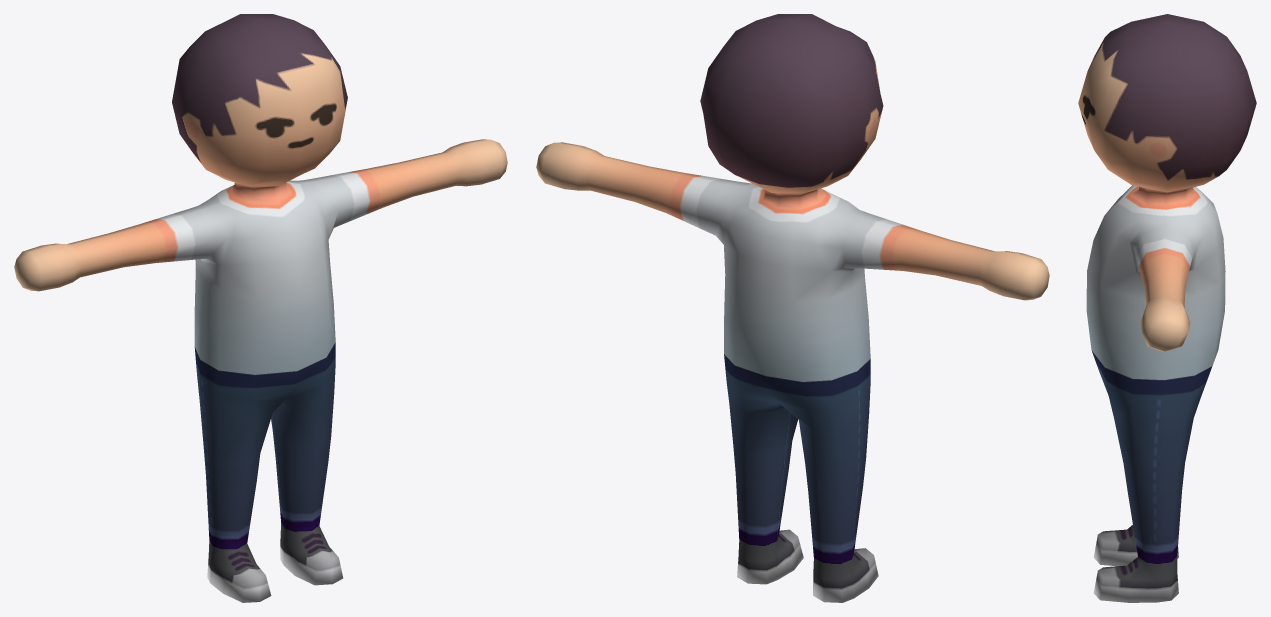
The model's file is stickman.fbx.
The picture shows the model from 3 angles, left to right: view 1: azimuth 30°, elevation 25°; view 2: azimuth 150°, elevation 25°; view 3: azimuth 270°, elevation 25°; orthographic projection. The views are drawn at different scales.
Visible parts, largest first — view 1: stickman; view 2: stickman; view 3: stickman.
Boxes of the visible parts, left/top/right/bottom form: stickman: left=14, top=14, right=507, bottom=602; stickman: left=536, top=14, right=1049, bottom=602; stickman: left=1078, top=14, right=1256, bottom=602.
Size of the model in its own units: 1.59 by 1.71 by 0.5015.
